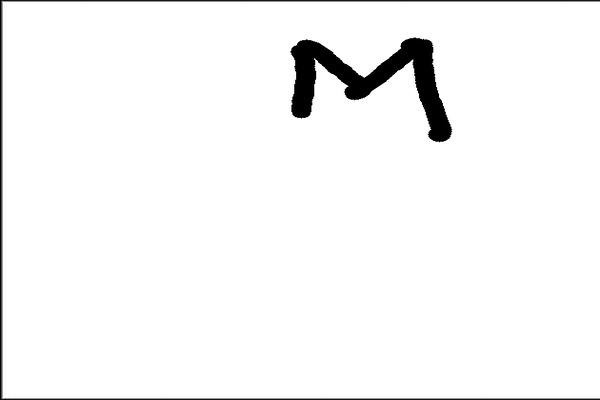M: (289, 33, 452, 146)
